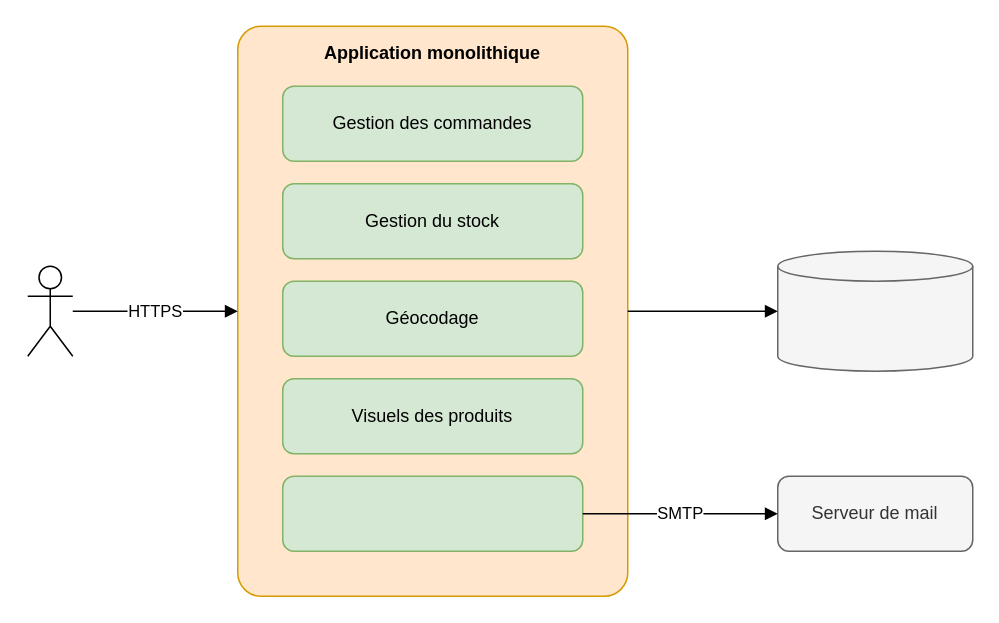
Image size: 999x623. Some labels were removed from this diagram. The shapes that lost their labels are listed below. From the top down, each one's centre as x and y in pixels, then its label:
point (49, 310): Client (front)
point (874, 310): Base de données unique
point (432, 513): Notification
